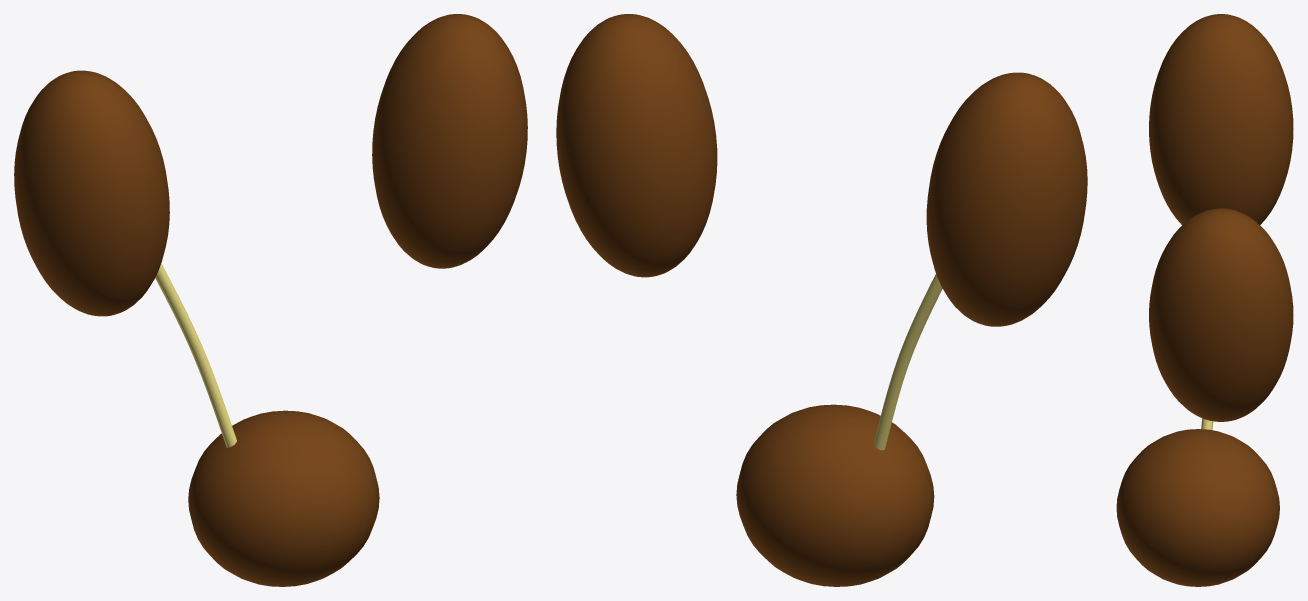
The model's file is kidneys_urinary.glb.
3 renders of one model, left to right at view 1: azimuth 30°, elevation 25°; view 2: azimuth 150°, elevation 25°; view 3: azimuth 270°, elevation 25°, orthographic. The views are drawn at different scales.
Parts seen in each view (by area): view 1: Kidney_R, Kidney_L, Bladder, Ureters; view 2: Kidney_R, Kidney_L, Bladder, Ureters; view 3: Kidney_R, Kidney_L, Bladder.
Part boxes in pixels (x1,y1,x2,y2): Kidney_R: (372, 14, 527, 268); Kidney_L: (14, 70, 169, 316); Bladder: (188, 410, 379, 586); Ureters: (155, 263, 236, 447); Kidney_R: (556, 14, 717, 277); Kidney_L: (926, 72, 1087, 326); Bladder: (736, 404, 934, 586); Ureters: (873, 274, 942, 450); Kidney_R: (1149, 208, 1293, 421); Kidney_L: (1149, 14, 1293, 225); Bladder: (1116, 429, 1279, 586).
Size of the model in its own units: 4.39 by 4.6 by 1.54.
